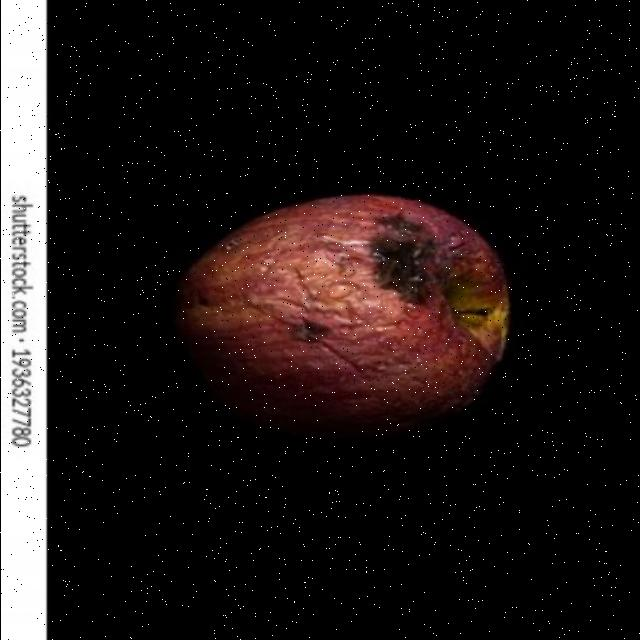ROT: (147, 158, 537, 478)
